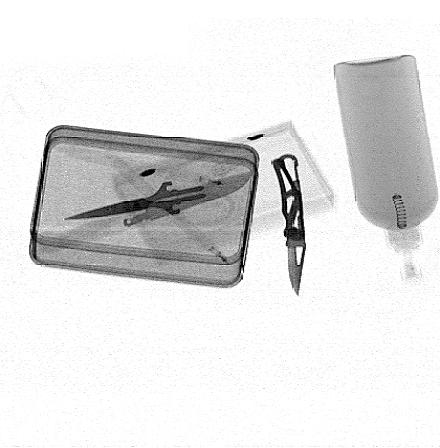Knife: (270, 154, 307, 296)
Scissors: (63, 155, 236, 227)
